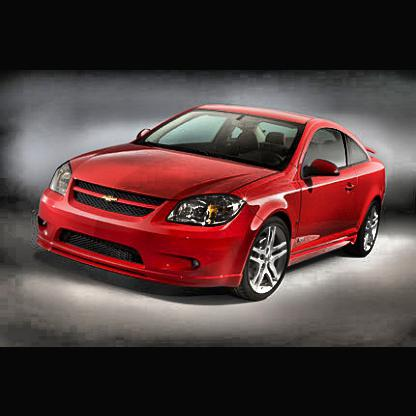Chevrolet Cobalt SS 2010: (36, 104, 389, 303)
